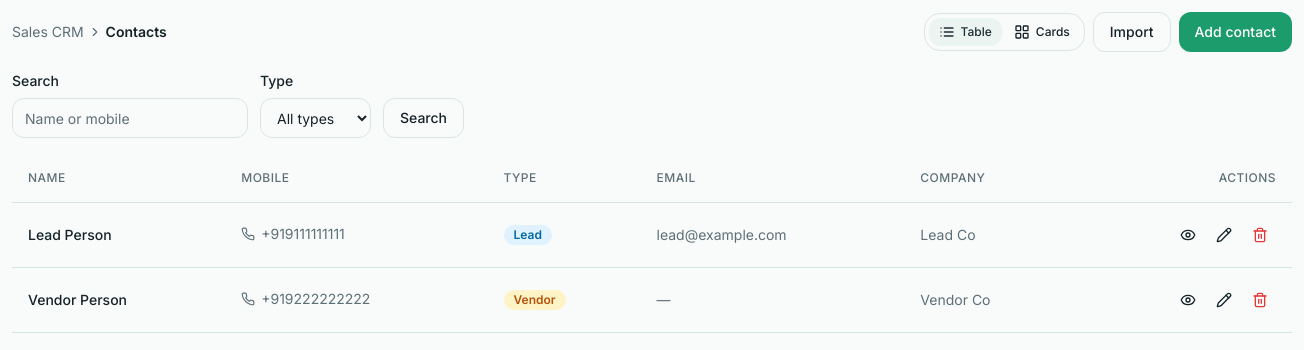
Test: CRM modules › filters the table by contact type
This screenshot has width=1304, height=350.
Expected: the text "Lead Person" is shown, [12,202,225,267]
Expected: the text "Vendor Person" is shown, [12,267,225,332]
Select "Lead" in the dropdown labelled "Type" at (316, 118), box [260,98,371,138]
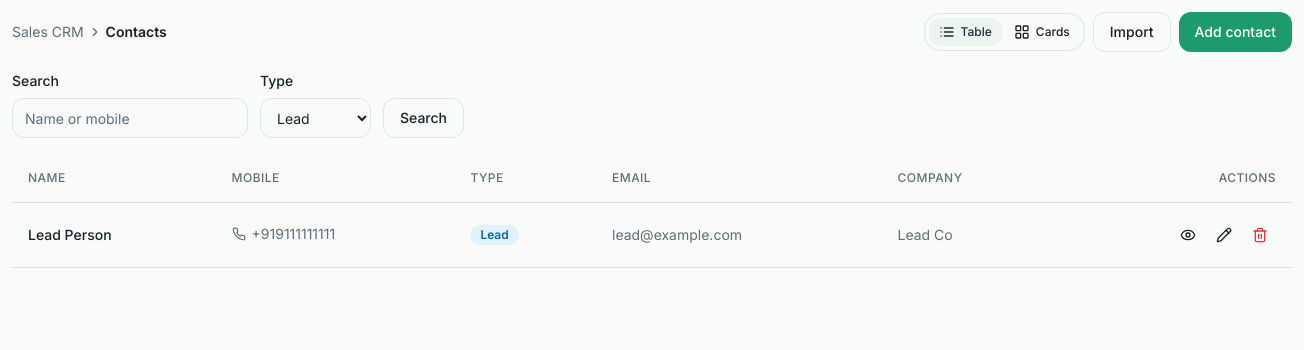
Expected: the text "Lead Person" is shown, [12,202,216,267]
Expected: the text "Vendor Person" is gone
